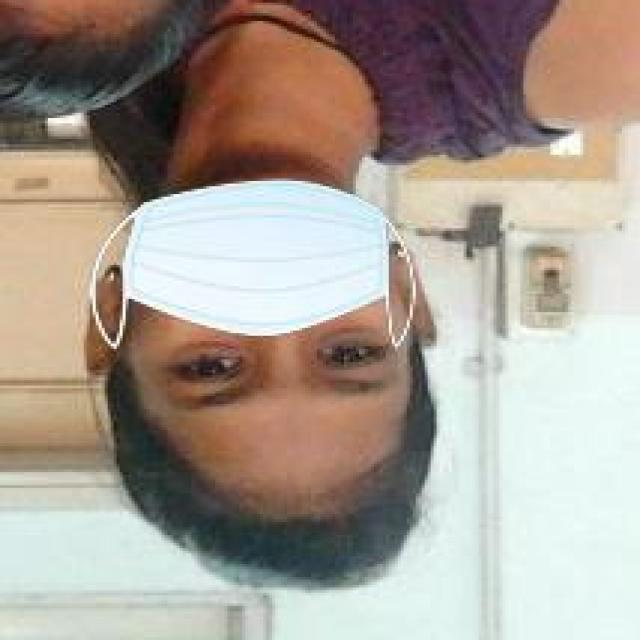Mask: (87, 181, 419, 359)
